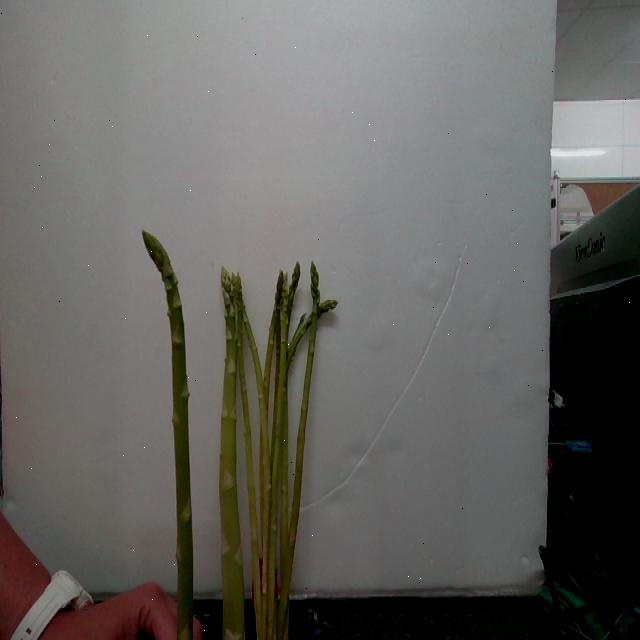aspargus: (144, 232, 195, 640)
